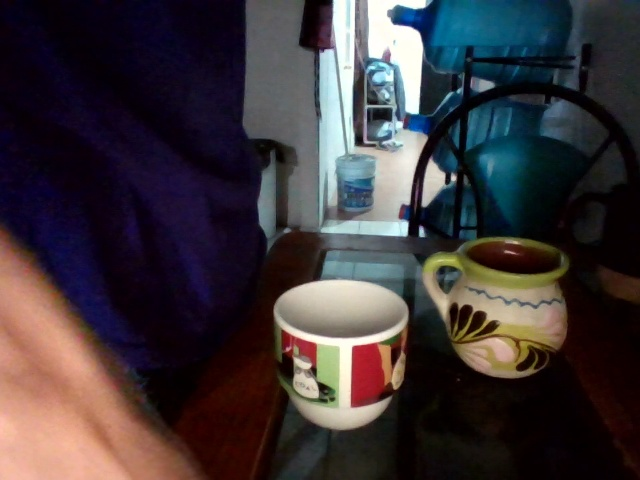taza: (421, 237, 572, 380), (272, 278, 411, 432)
